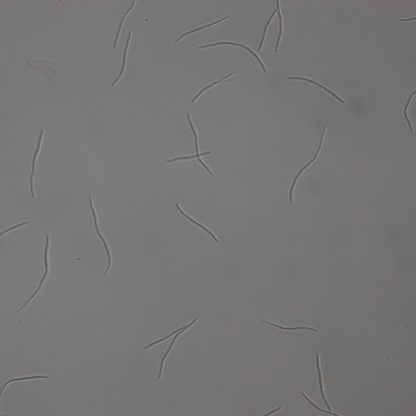Sensitive: (143, 317, 198, 380), (167, 111, 215, 175), (289, 128, 326, 203), (18, 235, 51, 312), (301, 354, 341, 416), (87, 194, 113, 277), (198, 41, 266, 72), (176, 203, 218, 241), (289, 76, 345, 103), (256, 1, 284, 52), (175, 15, 228, 41), (192, 73, 236, 100), (111, 31, 132, 85), (29, 129, 44, 199), (114, 1, 135, 46), (263, 320, 316, 333), (400, 91, 416, 134)
